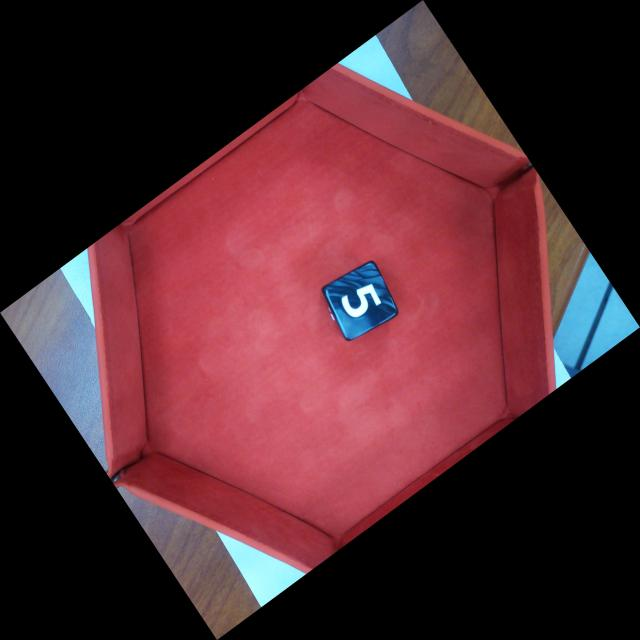dice: (320, 259, 399, 344)
